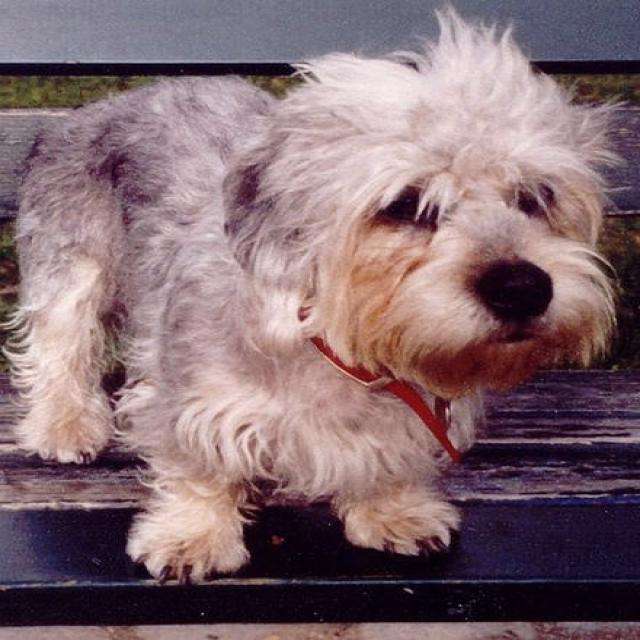dandie_dinmont: (3, 2, 637, 584)
